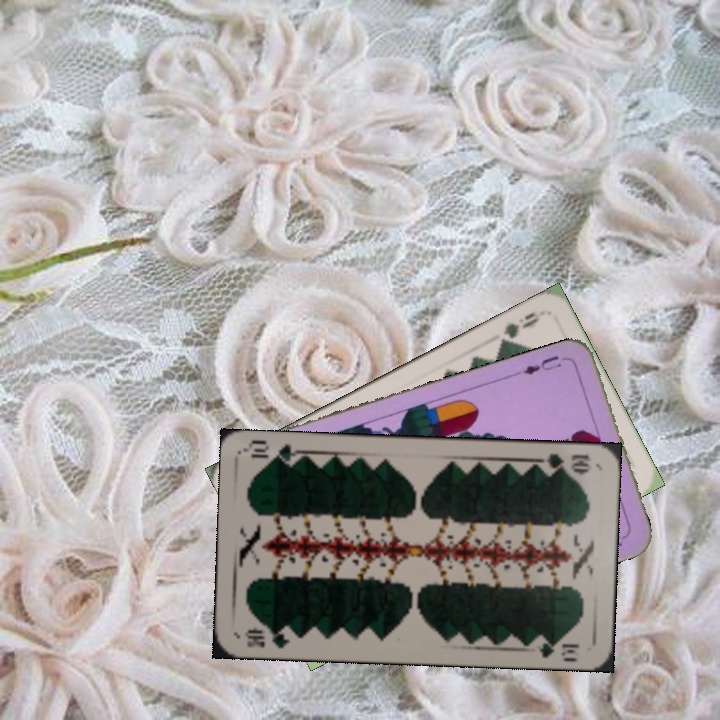EU: (514, 351, 572, 378)
G10: (535, 449, 594, 476), (241, 624, 292, 651)
G9: (495, 307, 546, 350)
